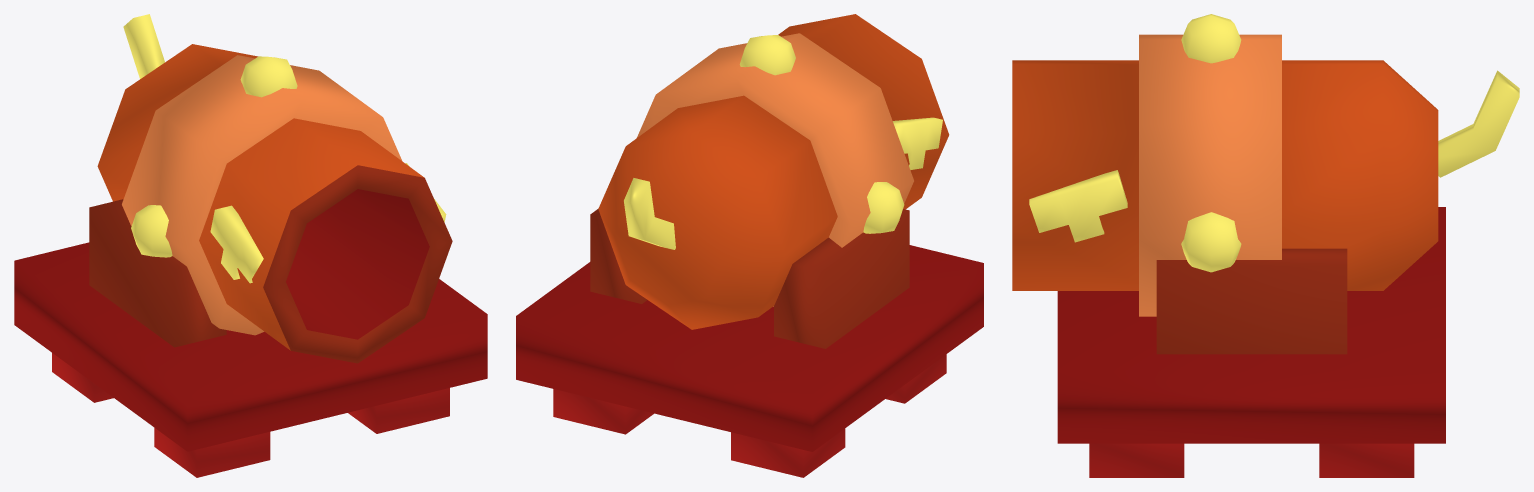
Rendered from cannon.glb.
3 views of the same model, side by side, from view 1: azimuth 30°, elevation 25°; view 2: azimuth 150°, elevation 25°; view 3: azimuth 270°, elevation 25° (orthographic). The views are drawn at different scales.
Visible parts, largest first — view 1: Body, Platform, Support, Legs, Eyes, BallDetail2, BallDetails, Fuse; view 2: Body, Platform, Support, Legs, Fuse, BallDetail2, Eyes, BallDetails; view 3: Body, Platform, Support, Legs, Eyes, Fuse, BallDetails, BallDetail2.
Part boxes in pixels (left/top/right/bottom): Body: left=97, top=44, right=452, bottom=363; Platform: left=14, top=242, right=487, bottom=451; Support: left=89, top=199, right=226, bottom=347; Legs: left=52, top=353, right=449, bottom=477; Eyes: left=210, top=163, right=446, bottom=283; BallDetail2: left=240, top=56, right=297, bottom=97; BallDetails: left=131, top=205, right=172, bottom=257; Fuse: left=123, top=14, right=164, bottom=78; Body: left=598, top=14, right=949, bottom=329; Platform: left=516, top=245, right=983, bottom=451; Support: left=590, top=209, right=909, bottom=348; Legs: left=553, top=354, right=946, bottom=477; Fuse: left=624, top=178, right=675, bottom=249; BallDetail2: left=739, top=35, right=795, bottom=75; Eyes: left=893, top=117, right=942, bottom=169; BallDetails: left=863, top=182, right=904, bottom=233; Body: left=1012, top=34, right=1438, bottom=316; Platform: left=1057, top=207, right=1445, bottom=443; Support: left=1156, top=248, right=1347, bottom=354; Legs: left=1089, top=443, right=1414, bottom=477; Eyes: left=1029, top=170, right=1127, bottom=242; Fuse: left=1438, top=70, right=1519, bottom=177; BallDetails: left=1181, top=212, right=1241, bottom=272; BallDetail2: left=1181, top=14, right=1241, bottom=63.
Bounding box in the file's own units: 0.6397 × 0.7141 × 0.8358.
1 material, 1 textured.
